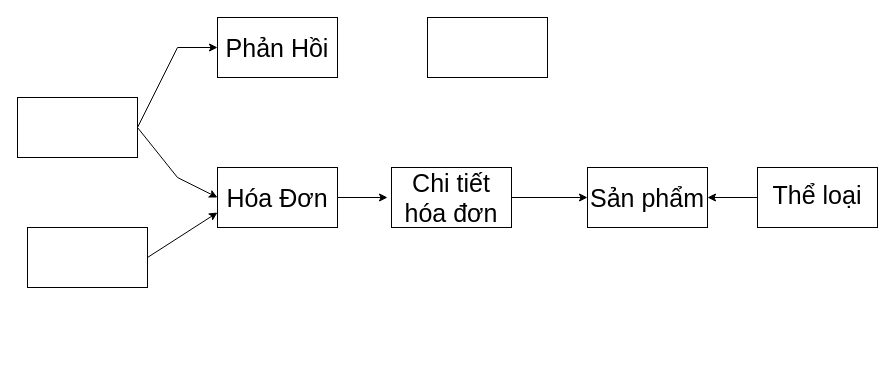
Image size: 895x375. Some labels were removed from this diagram. Each missing label, with the box of its shape:
Admin: (426, 16, 548, 78)
Khách Hàng: (16, 96, 138, 158)
Thanh toán: (26, 226, 148, 288)
